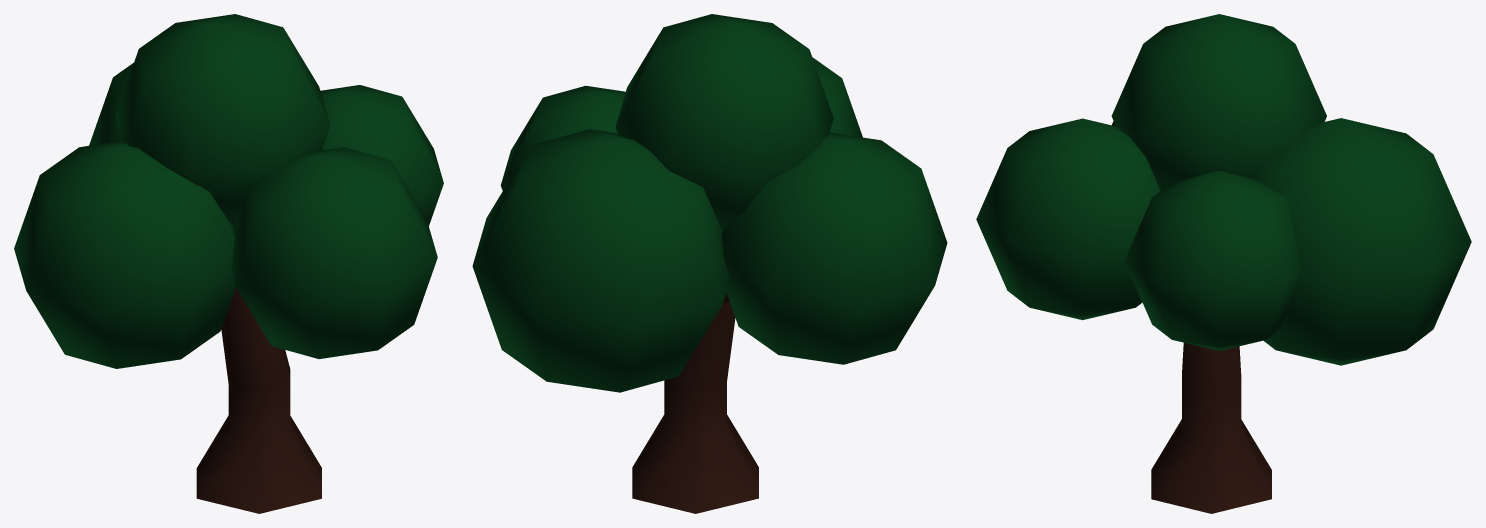
Rendered from tree_cloud.FBX.
3 renders of one model, left to right at view 1: azimuth 30°, elevation 25°; view 2: azimuth 150°, elevation 25°; view 3: azimuth 270°, elevation 25°, orthographic. The views are drawn at different scales.
Parts seen in each view (by area): view 1: Trunk004; view 2: Trunk004; view 3: Trunk004.
Part boxes in pixels (box(x1,y1,x2,y2)): Trunk004: box(14, 14, 443, 513); Trunk004: box(472, 14, 947, 513); Trunk004: box(976, 14, 1471, 513).
Bounding box in the file's own units: 125 × 135 × 135.
